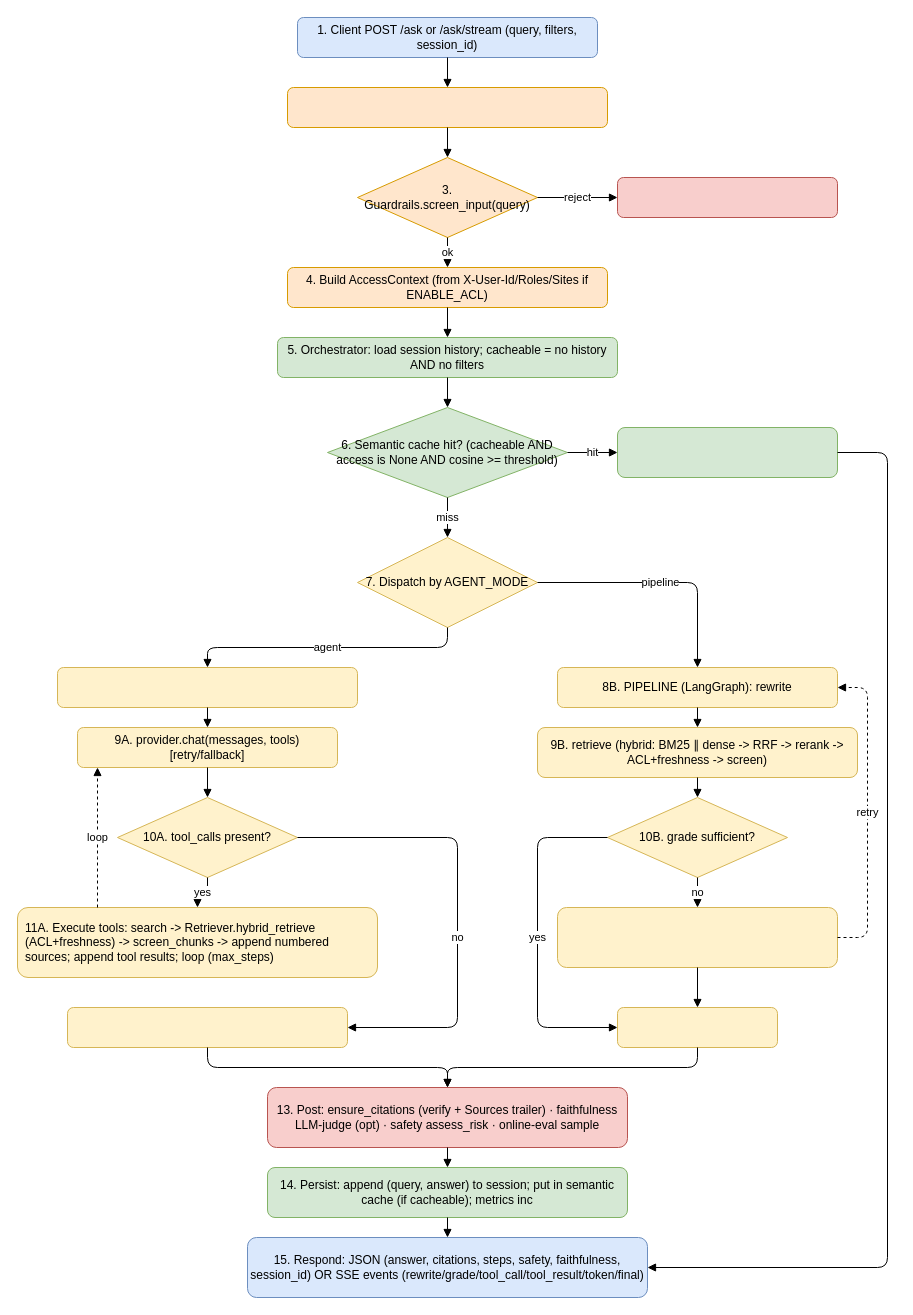
Image size: 913x1315. Some labels were removed from this diagram. Each missing label, with the centre of its shape:
"11B. retries left? -> rewrite (loop). else generate (grounded, cited)" goes at point (697, 937).
"12A. Final answer text (or forced answer at step limit)" goes at point (207, 1027).
"12B. Answer text" goes at point (697, 1027).
"2. Middleware: assign request_id; Auth (X-API-Key); Rate limit (memory/redis)" goes at point (447, 107).
"400 rejected (injection / control chars)" goes at point (727, 197).
"8A. AGENT: messages = system + history + user" goes at point (207, 687).
"Replay cached answer (token events + final, cached=true) -> step 15" goes at point (727, 452).
